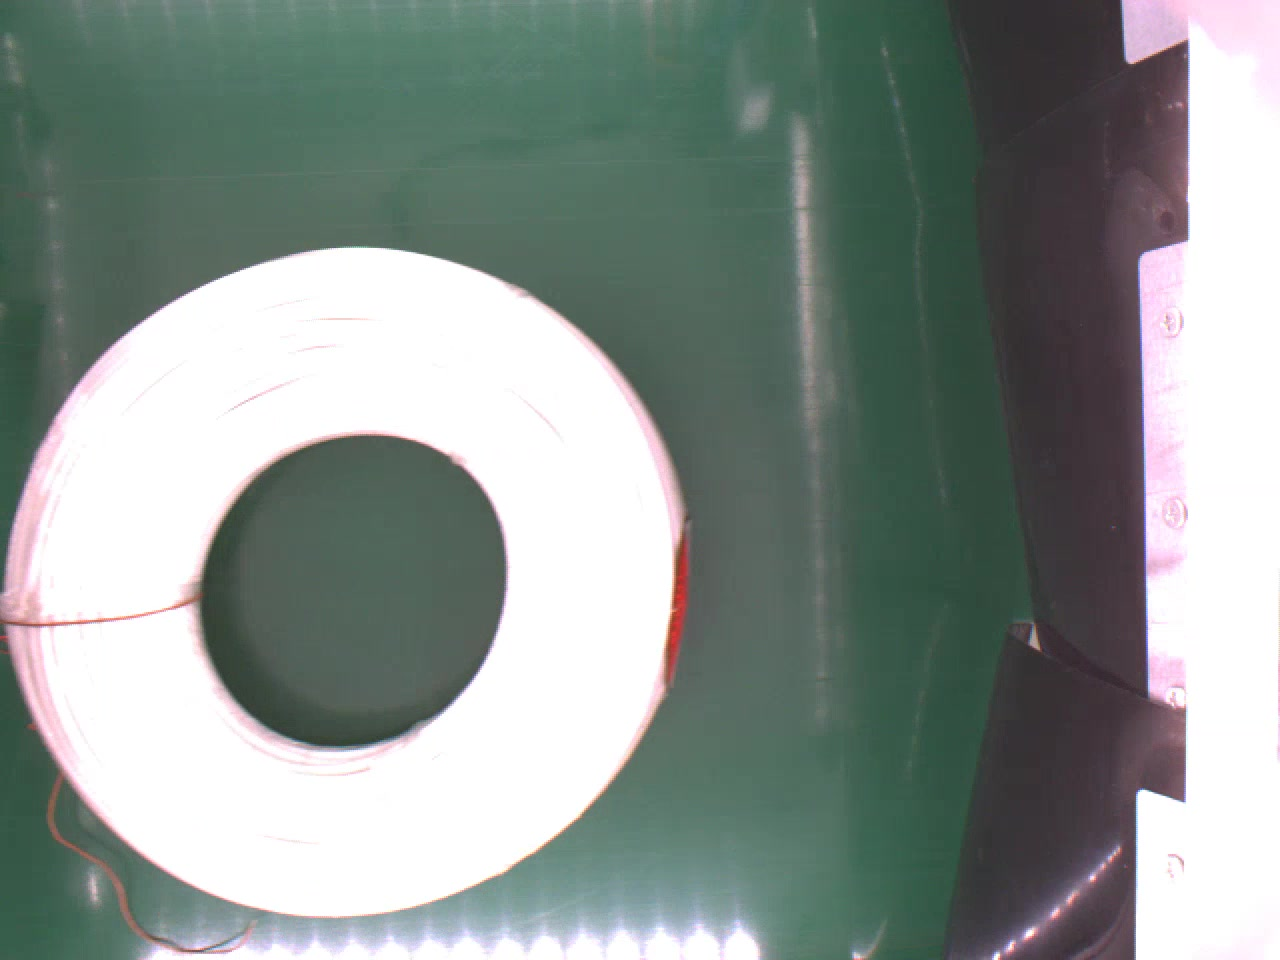white: (6, 238, 684, 909)
